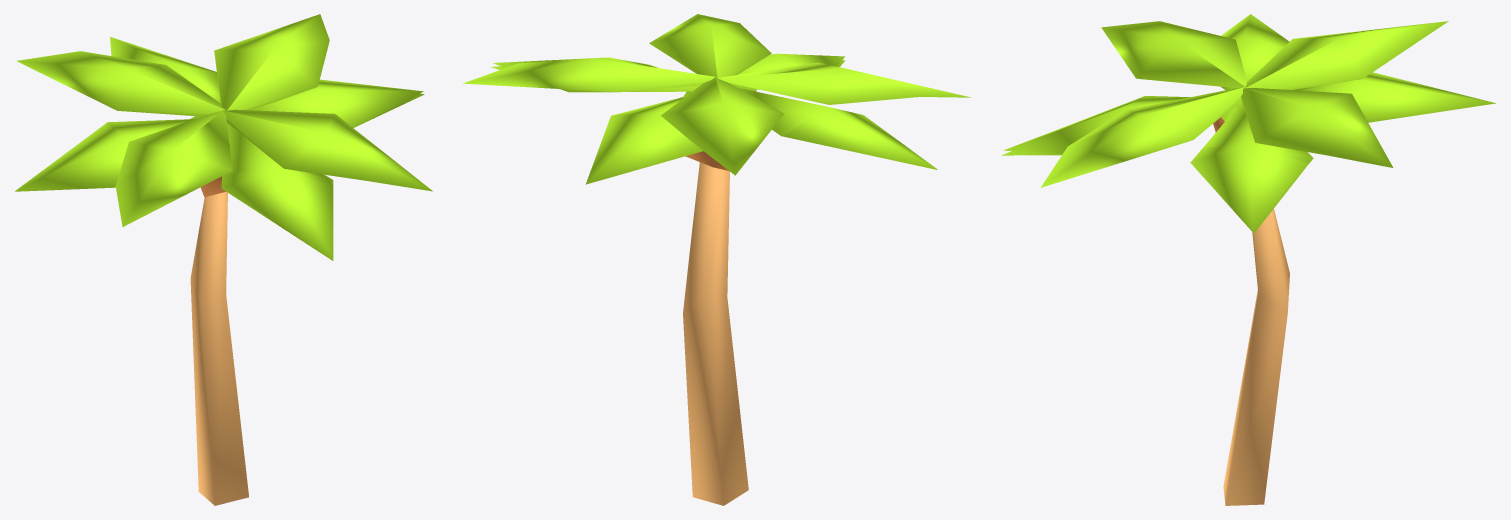
Rendered from Desert Tree 2 (Low Quality).fbx.
The picture shows the model from 3 angles, left to right: view 1: azimuth 30°, elevation 25°; view 2: azimuth 150°, elevation 25°; view 3: azimuth 270°, elevation 25°; orthographic projection. The views are drawn at different scales.
Parts seen in each view (by area): view 1: Cube.001; view 2: Cube.001; view 3: Cube.001.
Part boxes in pixels (x1,y1,x2,y2): Cube.001: (15,14,432,505); Cube.001: (463,14,971,505); Cube.001: (1001,14,1495,505).
Size of the model in its own units: 2927 by 2753 by 2851.
